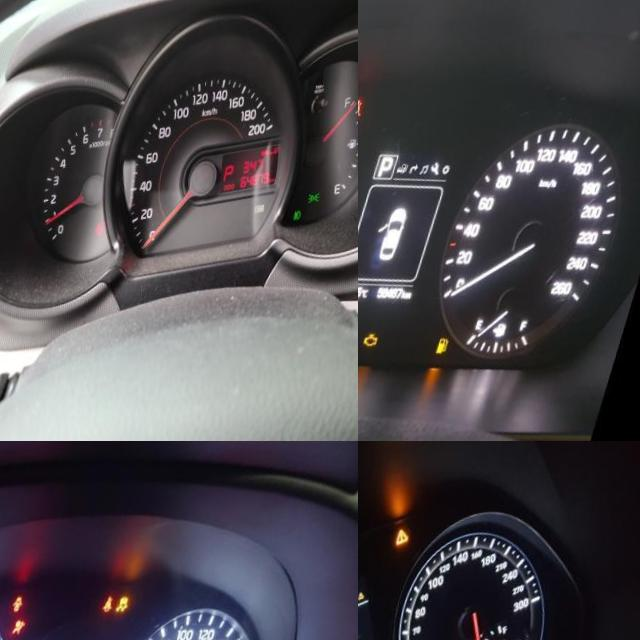Central Warning lamp: (395, 541, 412, 561)
Doors: (15, 604, 28, 624)
FrontFogLight: (298, 225, 308, 238)
Low fuel level: (442, 352, 457, 372)
SideLamp: (313, 209, 325, 221)
